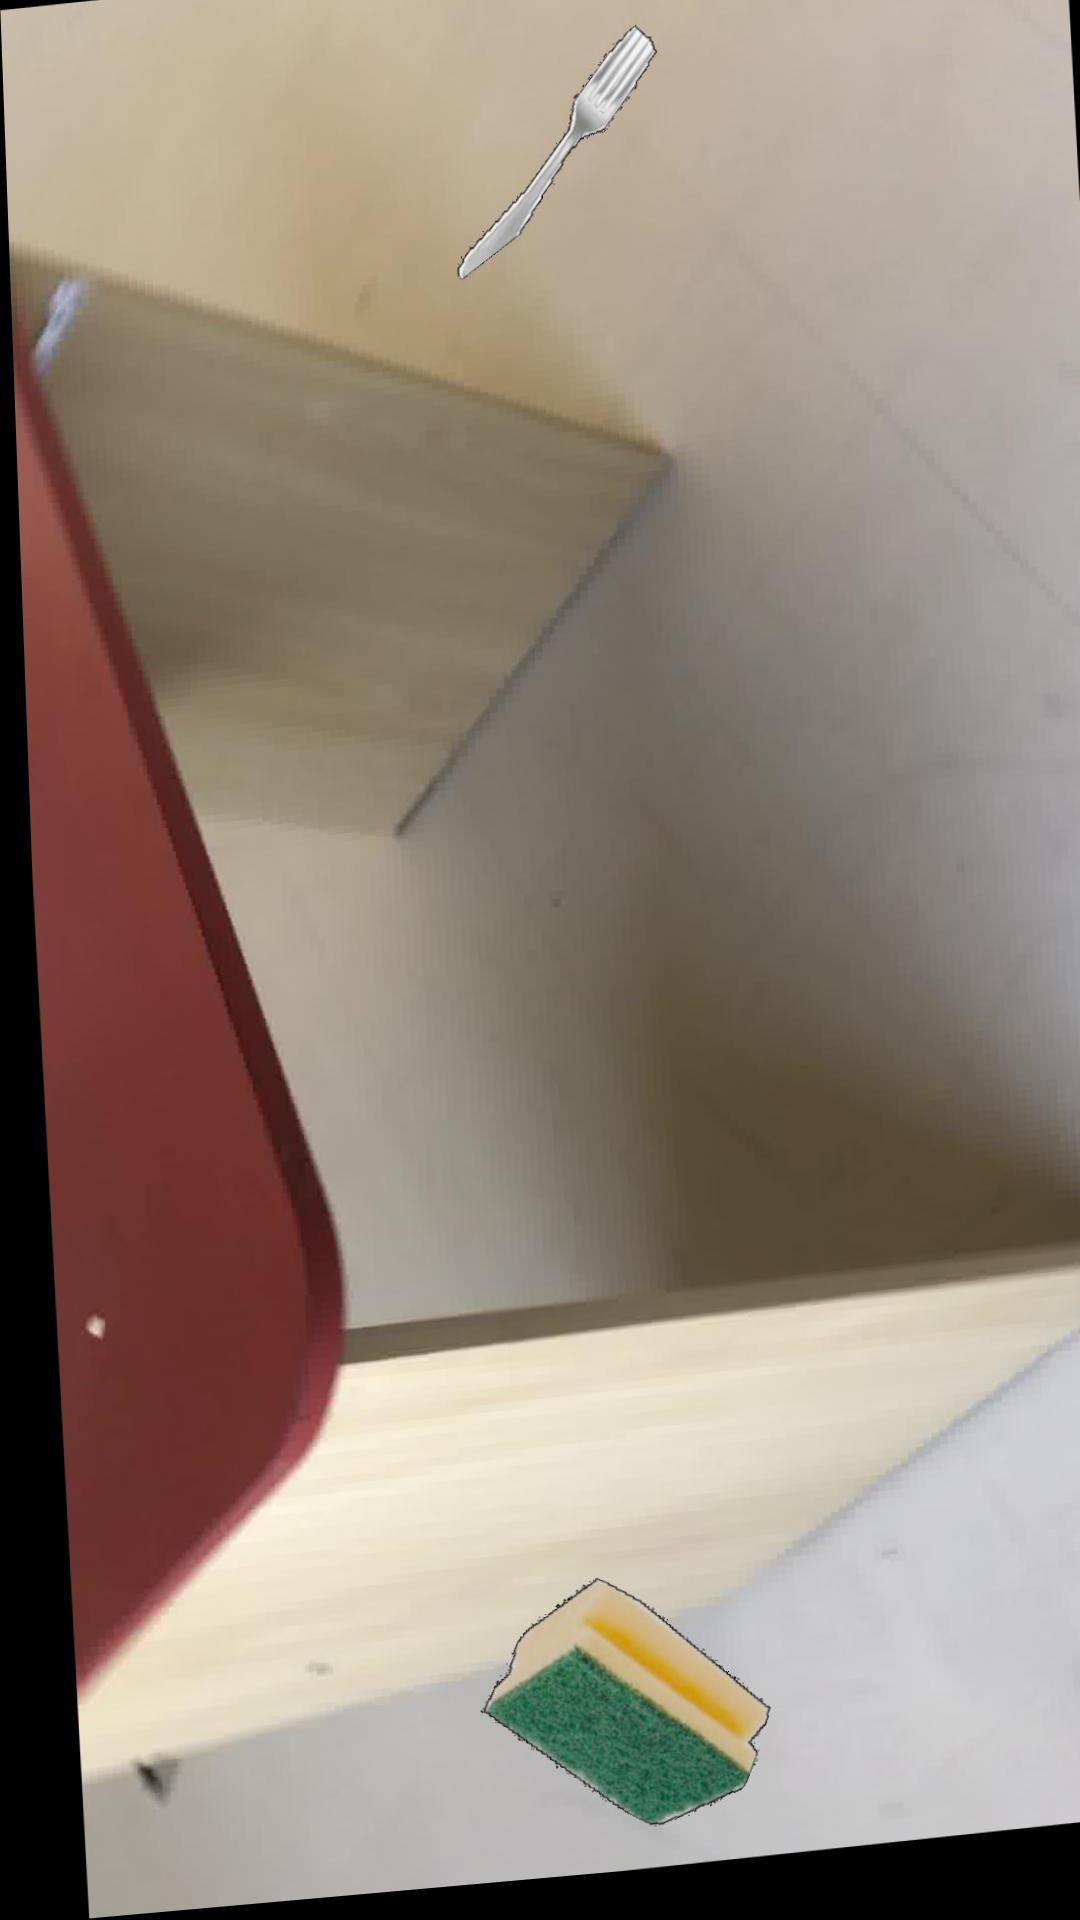fork: (455, 34, 655, 286)
sponge: (469, 1586, 756, 1833)
